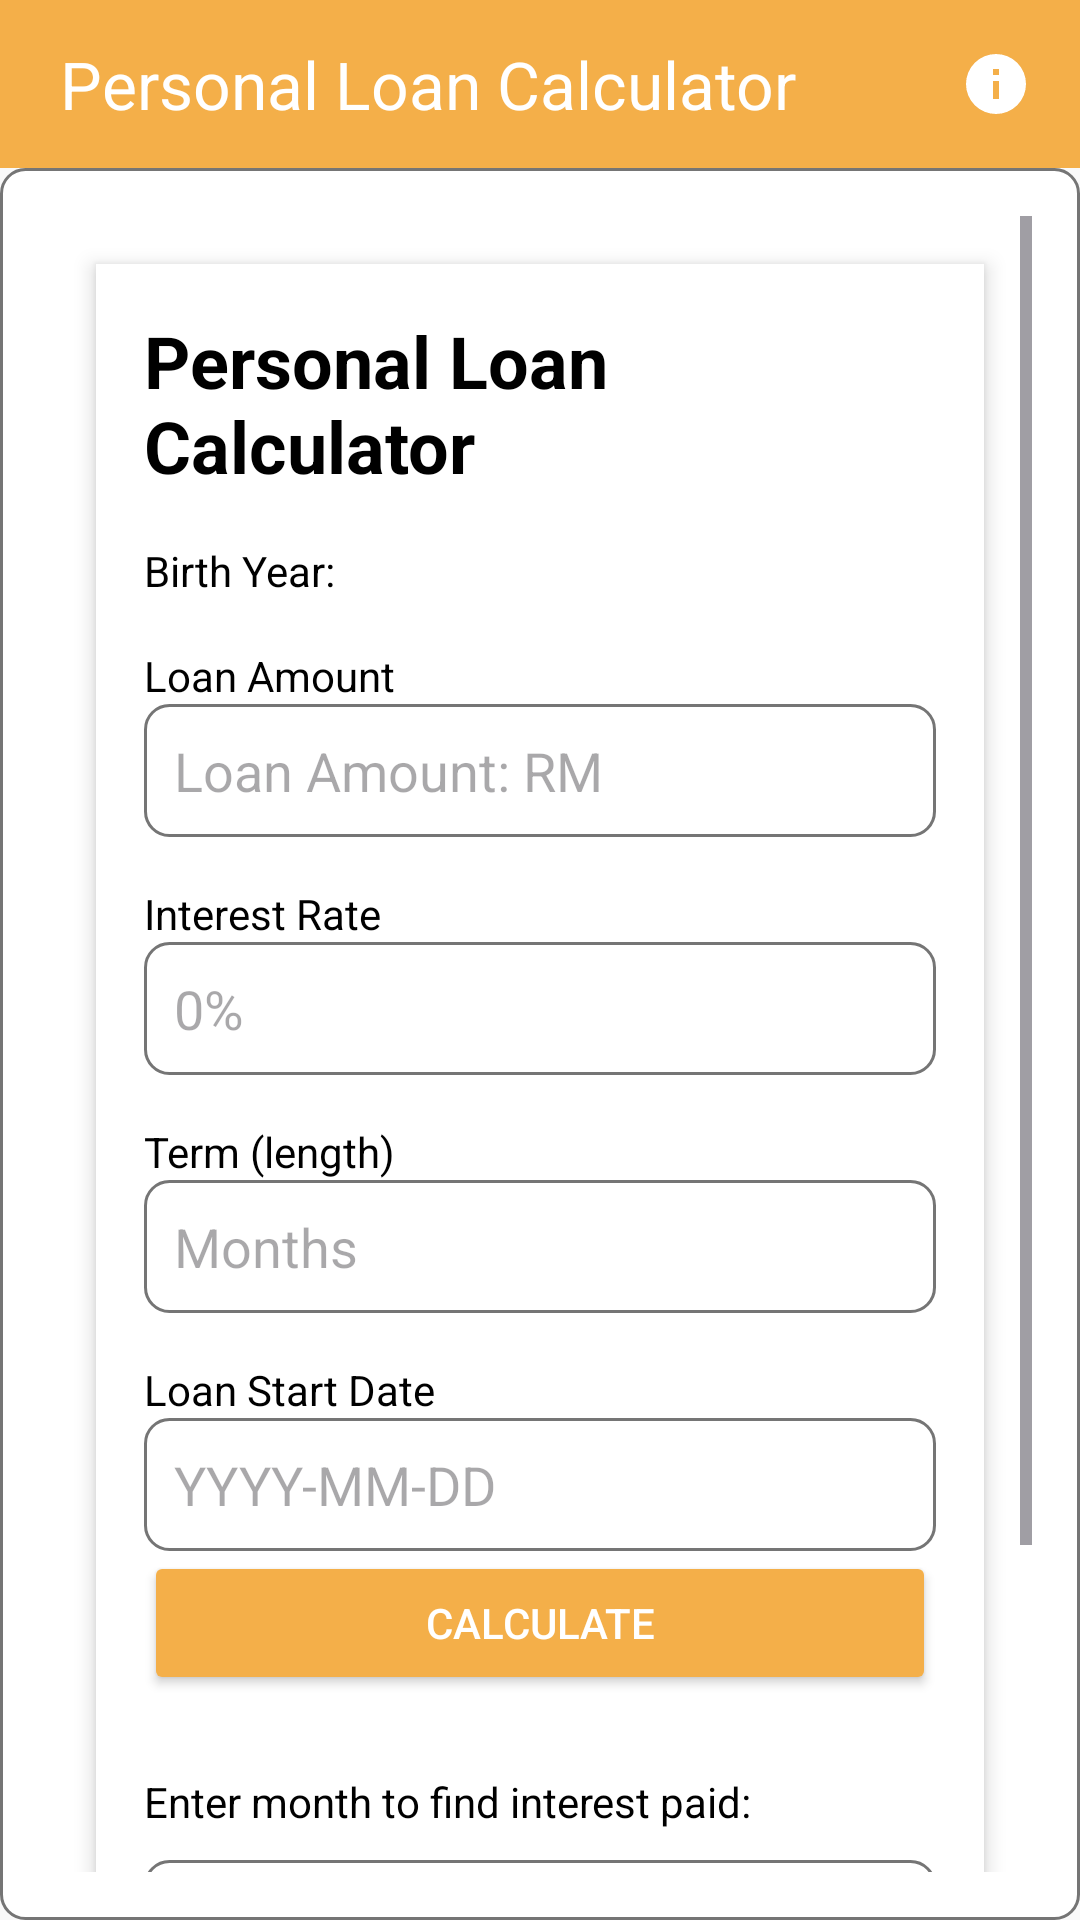

Icons on this 1080px x 1920px Android screen, each with its box as {"left": x1, "top": y1, "right": x2, "bottom": y2}:
Info: {"left": 966, "top": 54, "right": 1026, "bottom": 114}
